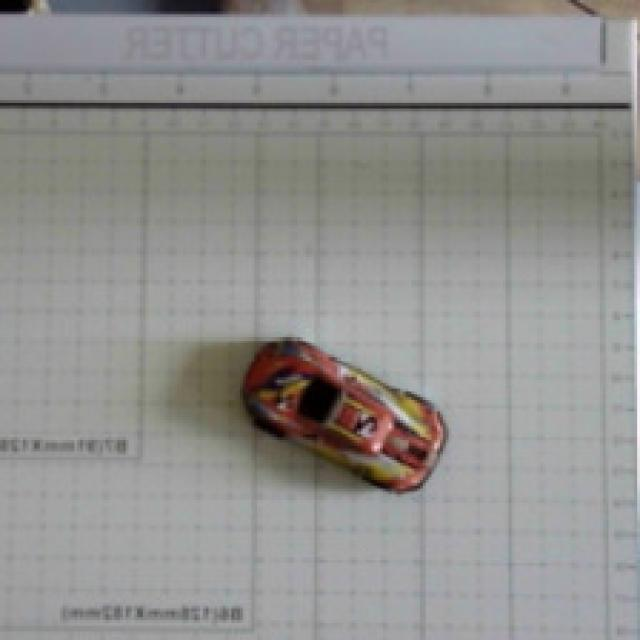Red Car: (214, 293, 512, 535)
